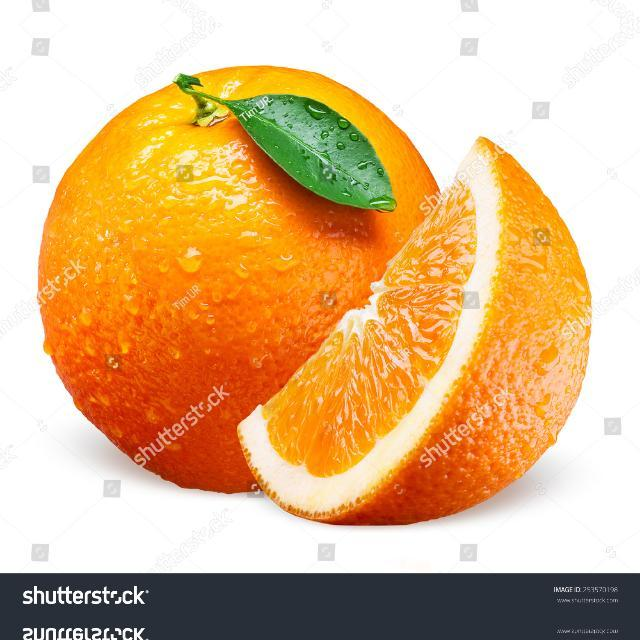Orange: (35, 63, 442, 494), (235, 134, 593, 526)
